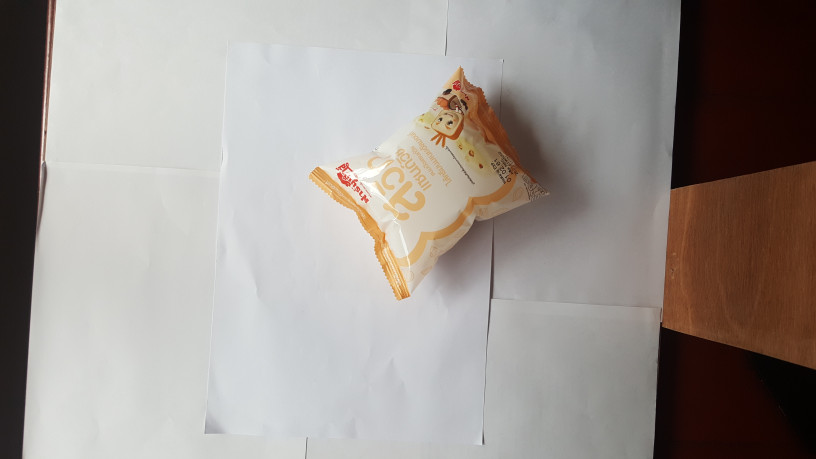farmhouse-sweetsandwich-almond: (310, 69, 555, 302)
